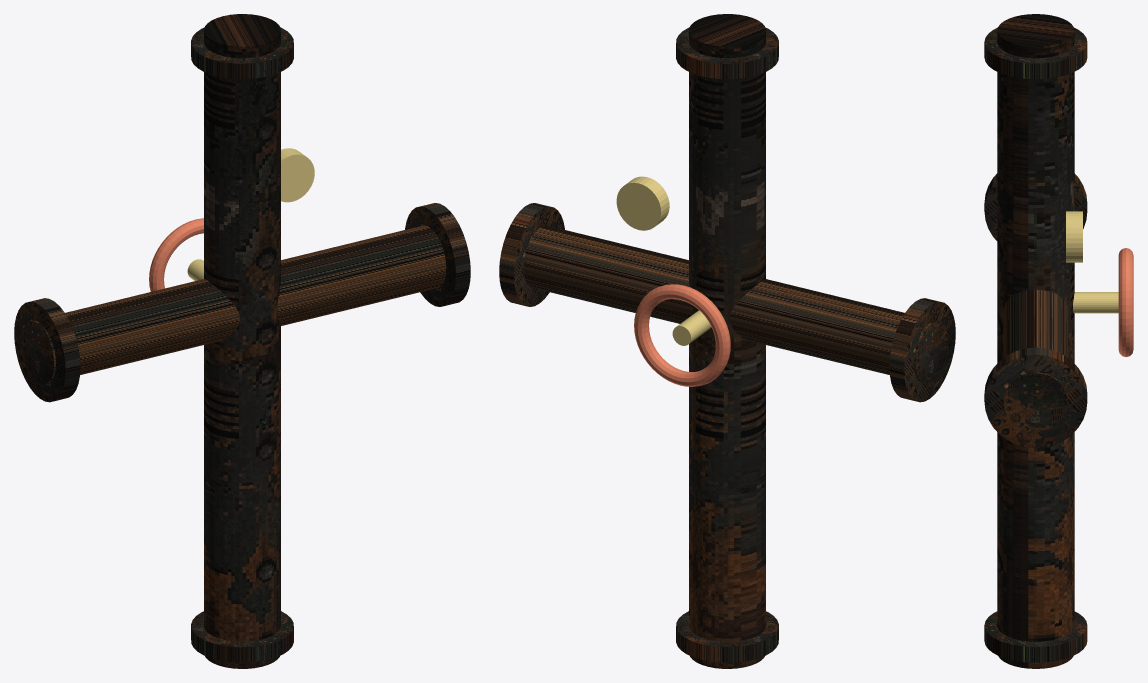
File: coolant_pipe_junction.glb
The picture shows the model from 3 angles, left to right: view 1: azimuth 30°, elevation 25°; view 2: azimuth 150°, elevation 25°; view 3: azimuth 270°, elevation 25°; orthographic projection.
Parts seen in each view (by area): view 1: CoolantPipe; view 2: CoolantPipe; view 3: CoolantPipe.
Boxes of the visible parts, x1,y1,x2,y2 form: CoolantPipe: (14,14,470,668); CoolantPipe: (499,14,955,668); CoolantPipe: (984,14,1133,668).
Bounding box in the file's own units: 2.2 × 3.2 × 0.695.
3 materials, 1 textured.
